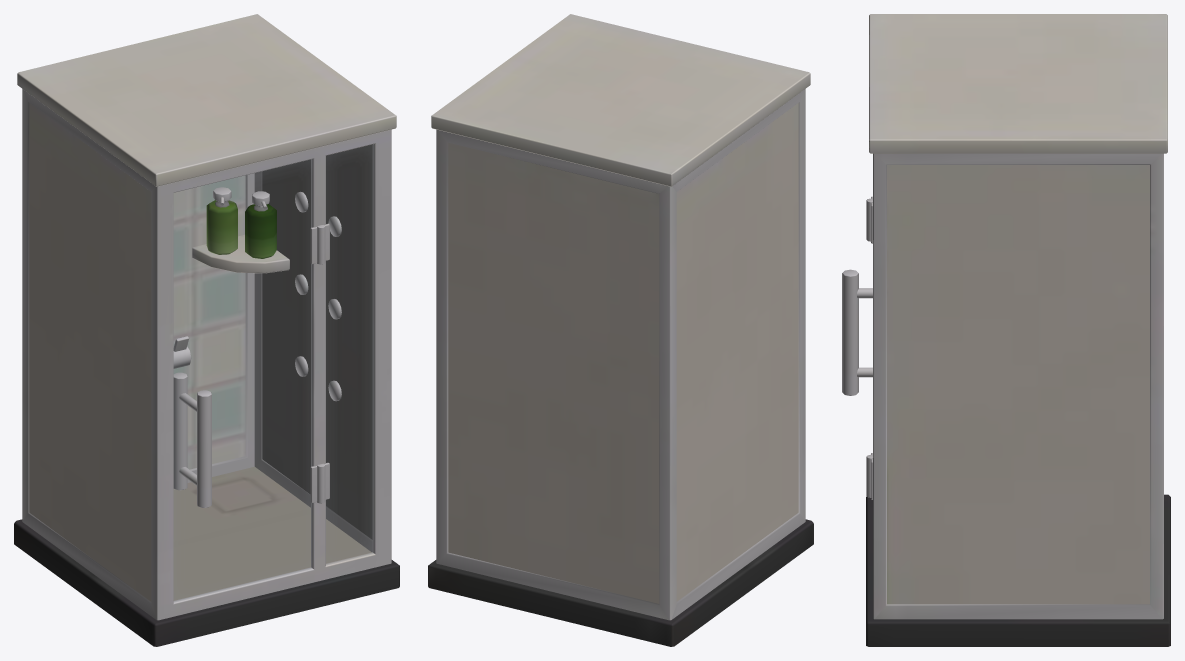
3 renders of one model, left to right at view 1: azimuth 30°, elevation 25°; view 2: azimuth 150°, elevation 25°; view 3: azimuth 270°, elevation 25°, orthographic. The views are drawn at different scales.
Size of the model in its own units: 11.22 by 20.56 by 12.11.
3 materials, 3 textured.
